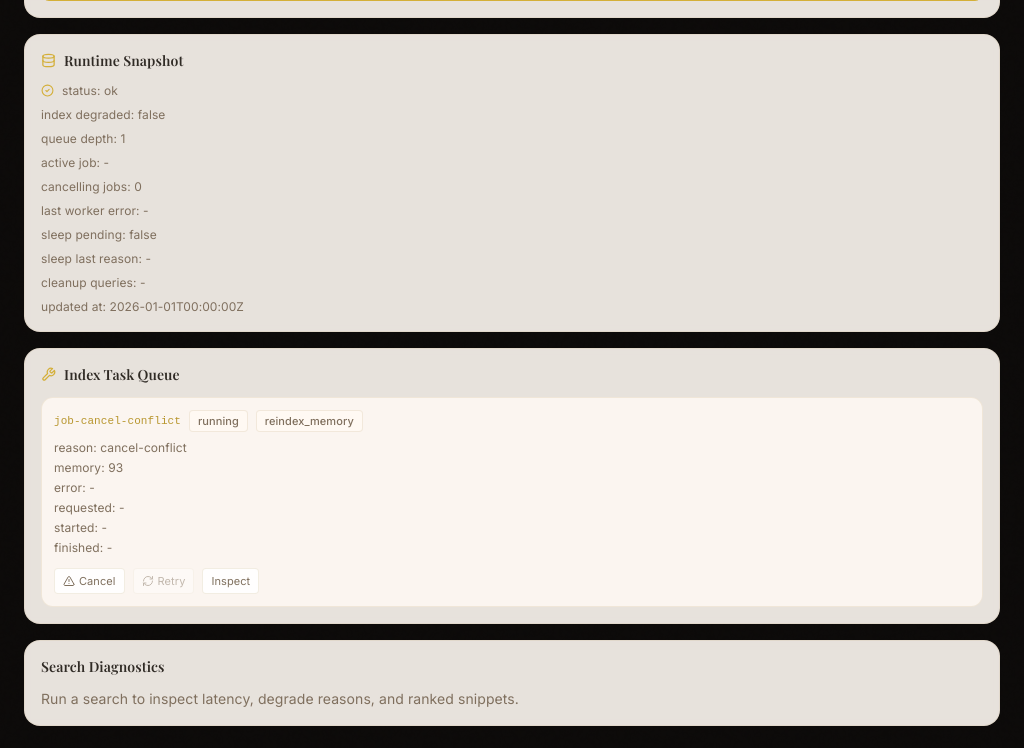
Test: ObservabilityPage › treats unknown 409 conflicts as cancel failure
(page scrolled)
Expected: the text "job-cancel-conflict" is shown, [54,414,181,426]
What coordinates should you click on to do the following:
click the button "Cancel"
I would click on:
 (89, 580)
Its box is [54,568,125,594].
(page scrolled)
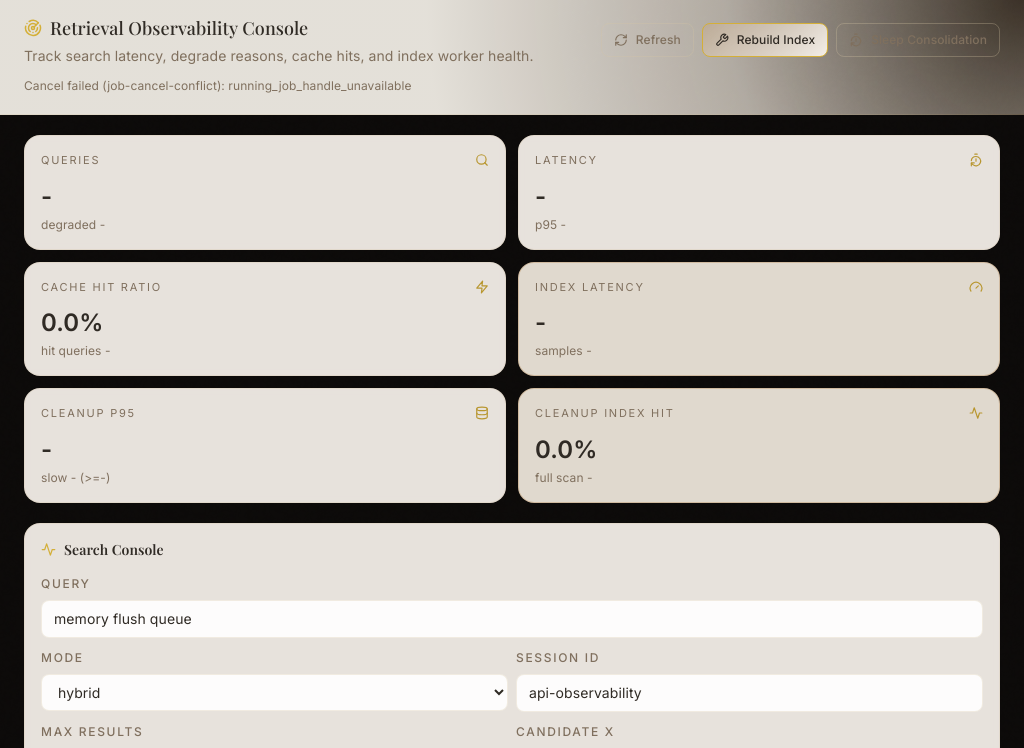
Expected: the text "Cancel failed (job-cancel-conflict): running_job_handle_unavailable" is shown, [24,78,412,93]
